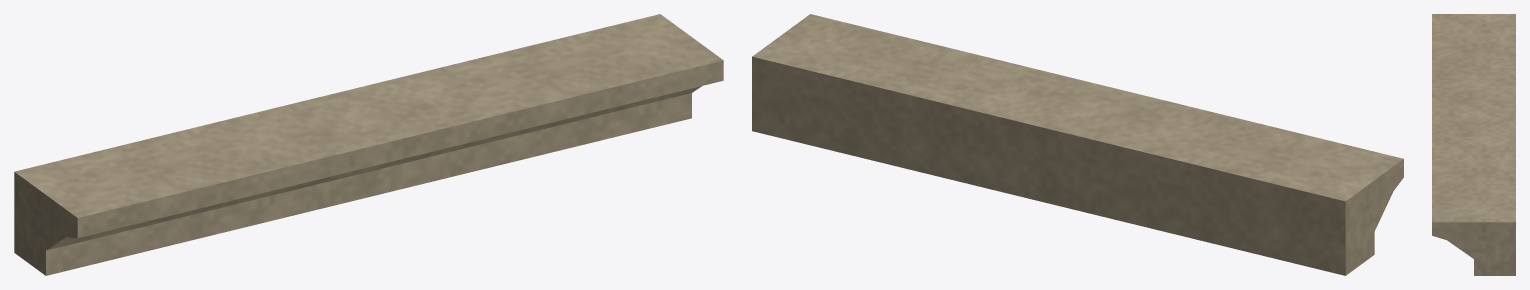
Rendered from heritage-cornice.lod1.glb.
3 views of the same model, side by side, from view 1: azimuth 30°, elevation 25°; view 2: azimuth 150°, elevation 25°; view 3: azimuth 270°, elevation 25° (orthographic). The views are drawn at different scales.
Parts seen in each view (by area): view 1: heritage-cornice; view 2: heritage-cornice; view 3: heritage-cornice.
Part boxes in pixels (x1,y1,x2,y2): heritage-cornice: [14, 14, 723, 275]; heritage-cornice: [752, 14, 1403, 275]; heritage-cornice: [1432, 14, 1515, 275].
Size of the model in its own units: 2 by 0.24 by 0.34.
Materials: 1 (1 with a texture image).
